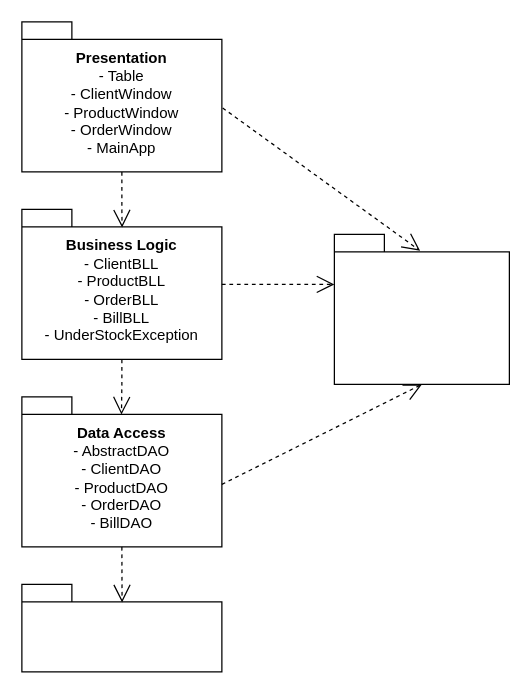
This 531x694 diagram has some shape labels left out. The centre of each missing label's shape, as x and y in pixels:
Connection - ConnectionFactory: point 121,627
Data Model - Client - Product - Order - OrderView - Bill: point 421,308
